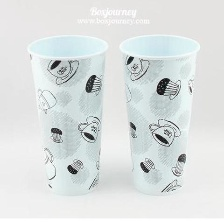paper_cup: (115, 29, 204, 200), (23, 30, 111, 200)
